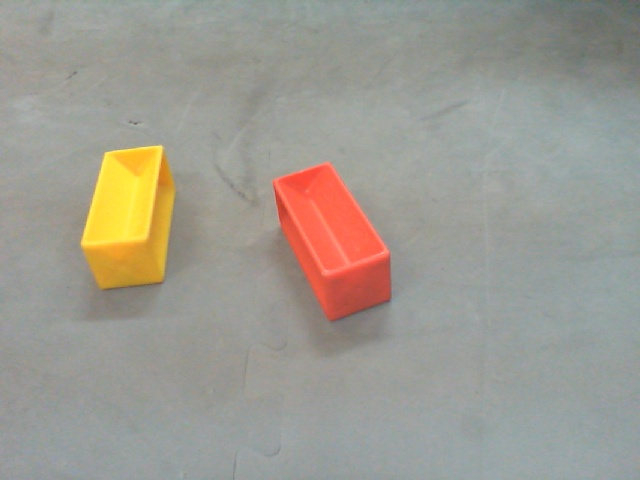RedSample: (269, 159, 396, 322)
YellowSample: (78, 144, 177, 293)
